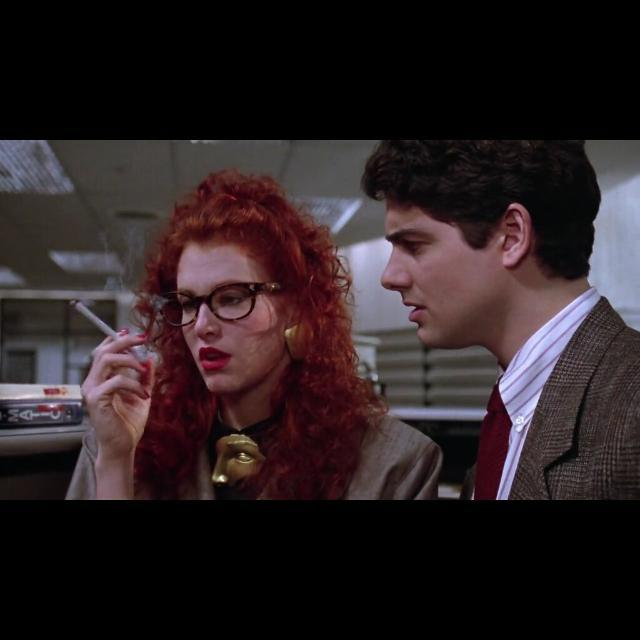rokok: (67, 300, 126, 344)
